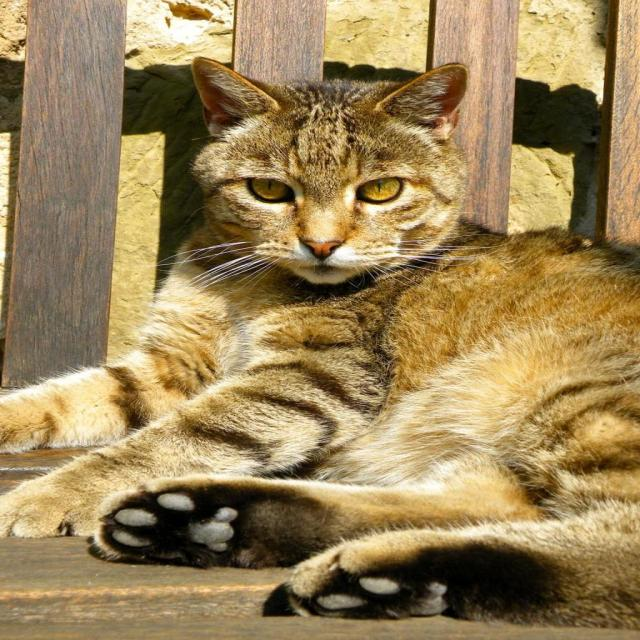Cat: (0, 54, 638, 630)
